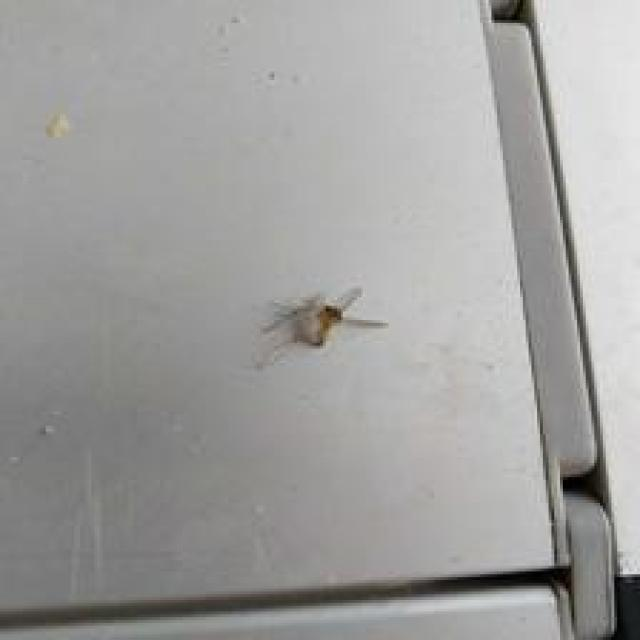Culex: (252, 284, 388, 370)
